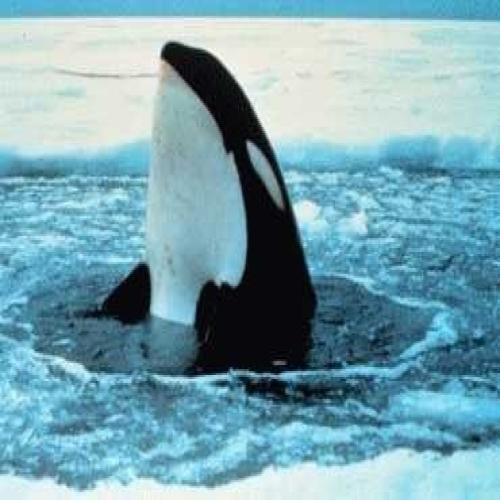killer_whale-endangered: (110, 20, 336, 369)
